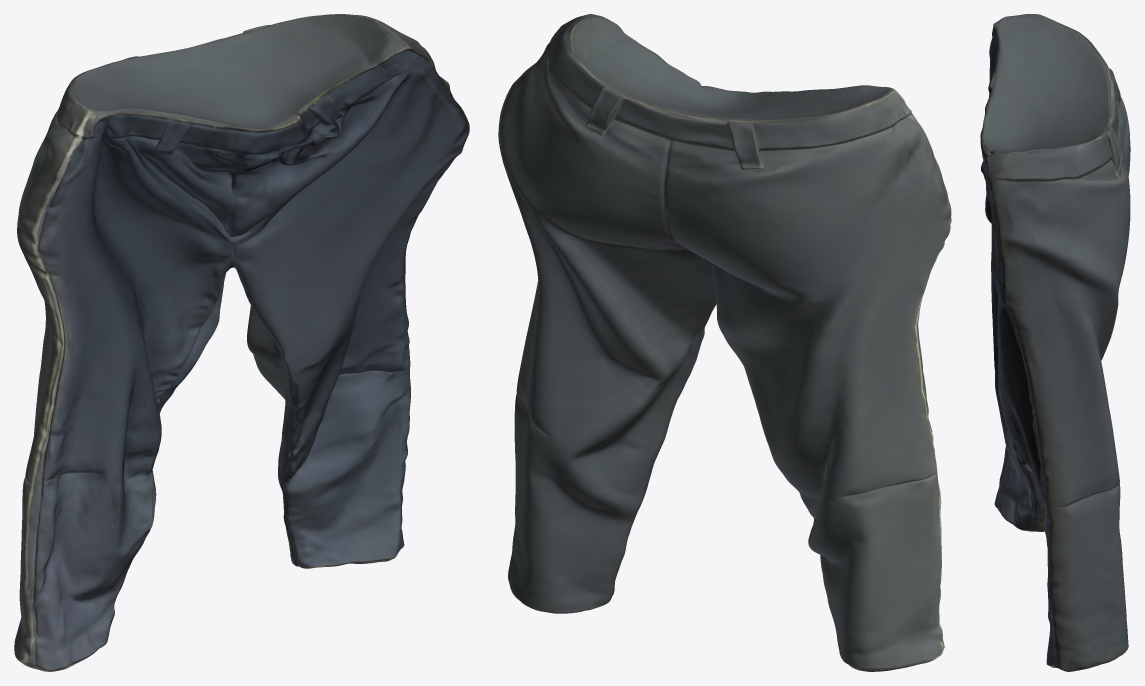
The model's file is summer_boy_bottom_01.glb.
3 renders of one model, left to right at view 1: azimuth 30°, elevation 25°; view 2: azimuth 150°, elevation 25°; view 3: azimuth 270°, elevation 25°, orthographic. The views are drawn at different scales.
Parts seen in each view (by area): view 1: tripo_node_6e9ac371-4270-4d25-a856-af087492949f; view 2: tripo_node_6e9ac371-4270-4d25-a856-af087492949f; view 3: tripo_node_6e9ac371-4270-4d25-a856-af087492949f.
Boxes of the visible parts, x1,y1,x2,y2 form: tripo_node_6e9ac371-4270-4d25-a856-af087492949f: [14, 14, 469, 671]; tripo_node_6e9ac371-4270-4d25-a856-af087492949f: [498, 14, 951, 671]; tripo_node_6e9ac371-4270-4d25-a856-af087492949f: [980, 14, 1130, 671].
Bounding box in the file's own units: 0.8374 × 1 × 0.2673.
1 material, 1 textured.
